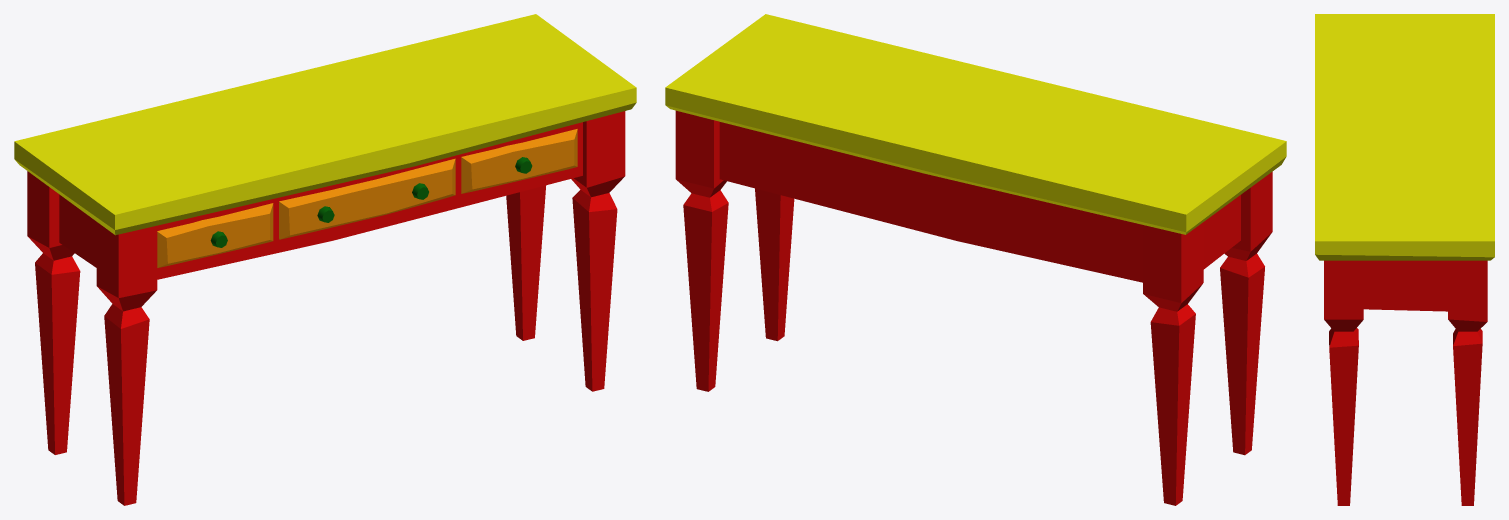
Rendered from LR_HighTable.fbx.
3 views of the same model, side by side, from view 1: azimuth 30°, elevation 25°; view 2: azimuth 150°, elevation 25°; view 3: azimuth 270°, elevation 25° (orthographic). The views are drawn at different scales.
Visible parts, largest first — view 1: LR_HighTable; view 2: LR_HighTable; view 3: LR_HighTable.
Part boxes in pixels (box(x1,y1,x2,y2)): LR_HighTable: box(14, 14, 636, 505); LR_HighTable: box(665, 14, 1286, 505); LR_HighTable: box(1315, 14, 1494, 505).
Bounding box in the file's own units: 210 × 118 × 70.15.
